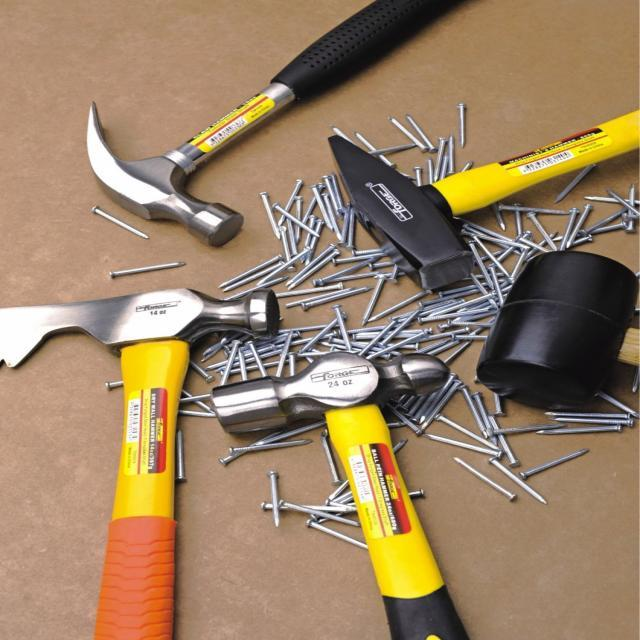hammer: (0, 277, 290, 638), (76, 0, 457, 251), (205, 342, 466, 640), (324, 106, 640, 296)
